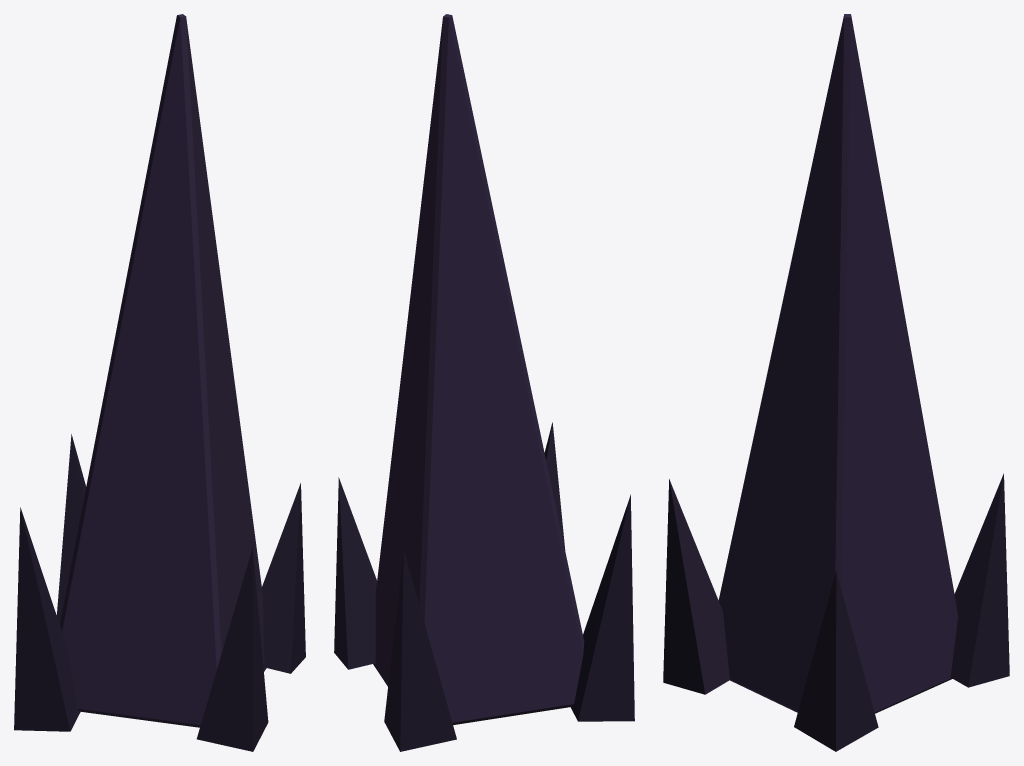
Rendered from inc_umbral_pilar.fbx.
The picture shows the model from 3 angles, left to right: view 1: azimuth 30°, elevation 25°; view 2: azimuth 150°, elevation 25°; view 3: azimuth 270°, elevation 25°; orthographic projection.
Visible parts, largest first — view 1: inc_umbral_pilar; view 2: inc_umbral_pilar; view 3: inc_umbral_pilar.
Part boxes in pixels (box(x1,y1,x2,y2)): inc_umbral_pilar: box(14, 14, 305, 751); inc_umbral_pilar: box(334, 14, 634, 751); inc_umbral_pilar: box(663, 14, 1009, 751).
Size of the model in its own units: 5.79 by 12.48 by 5.79.
